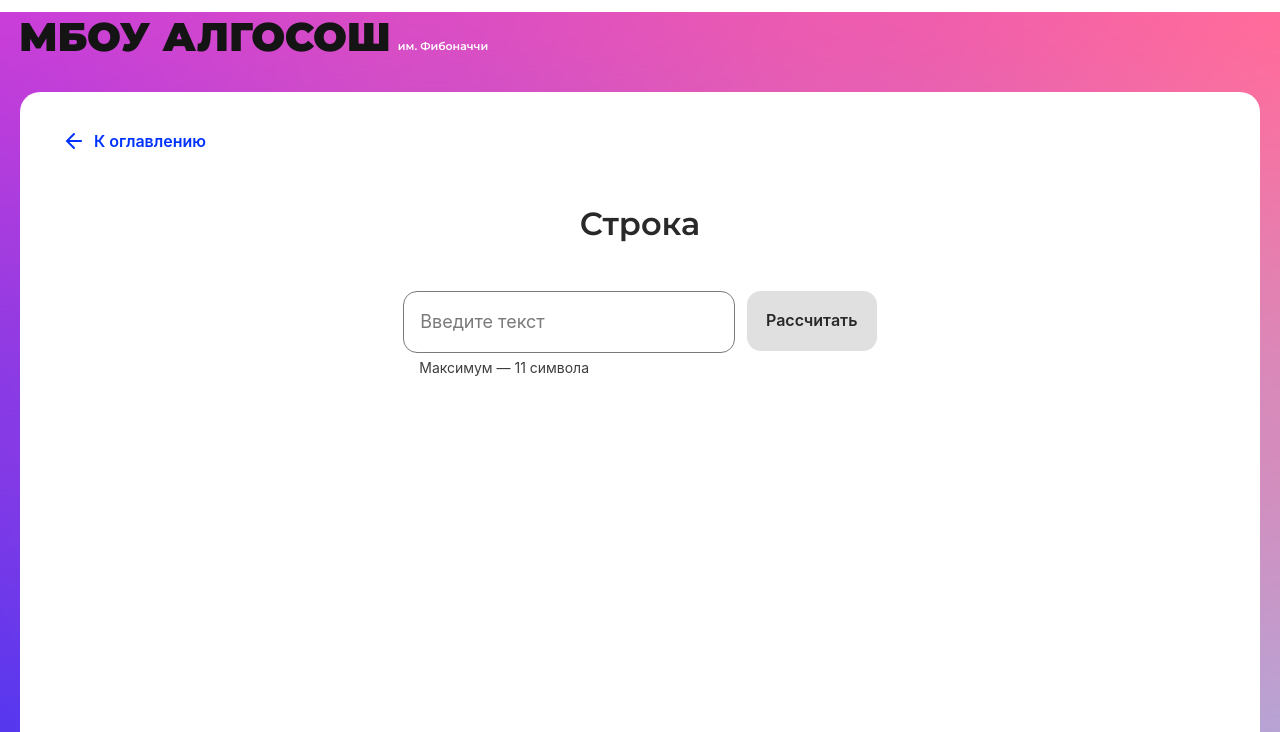
Test: Страница разворота строки › строка должна разворачиваться корректно
This screenshot has width=1280, height=732.
Type "TestString" into the field with placeholder "Введите текст".
click(569, 322); type("TestString")  # box [403,291,734,353]
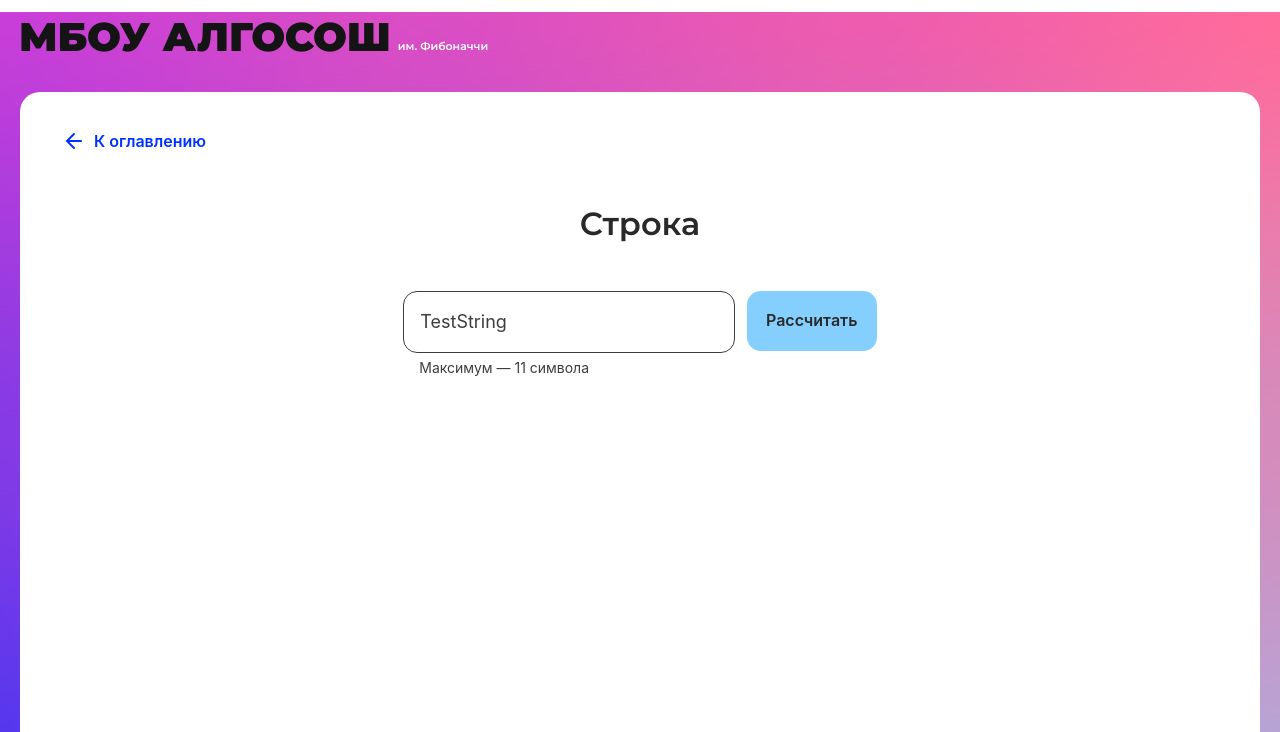
Click the button "Рассчитать".
click(812, 321)  # box [747,291,877,351]
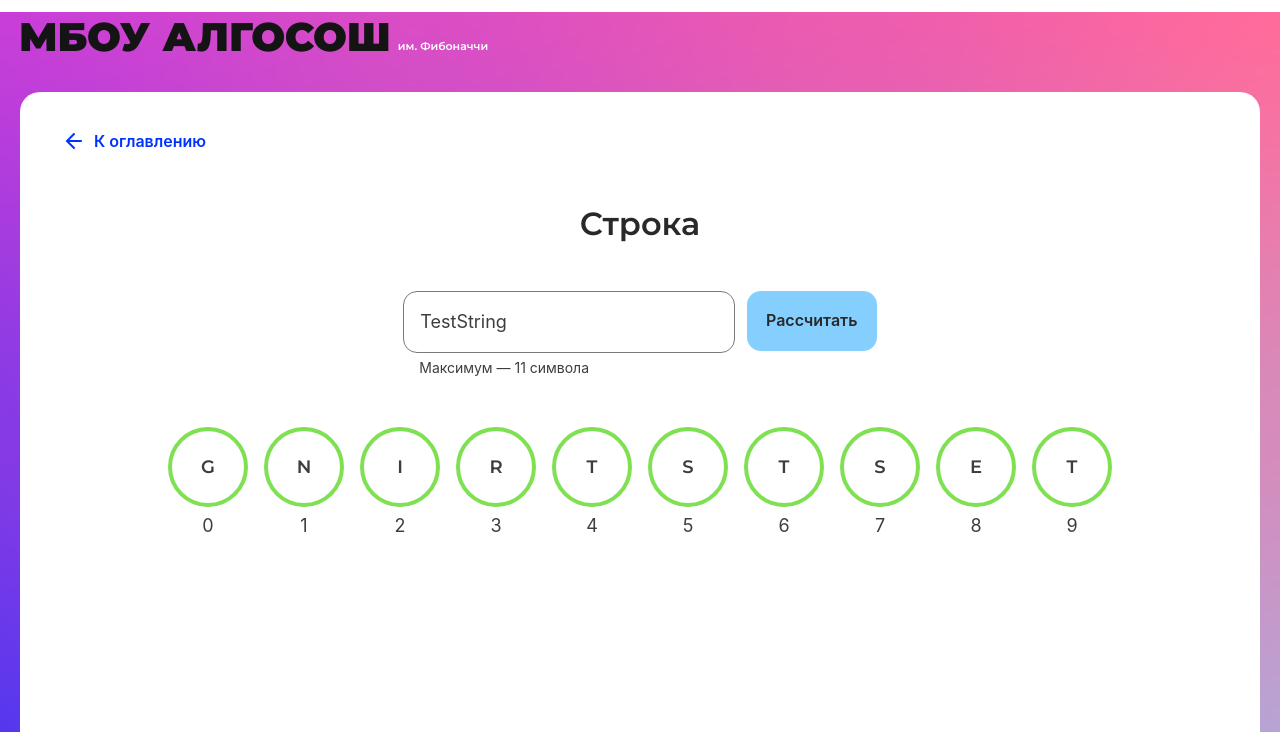
expect the element showing "g 0" is shown: met, box [168,427,248,507]
expect the element showing "n 1" is shown: met, box [264,427,344,507]
expect the element showing "i 2" is shown: met, box [360,427,440,507]
